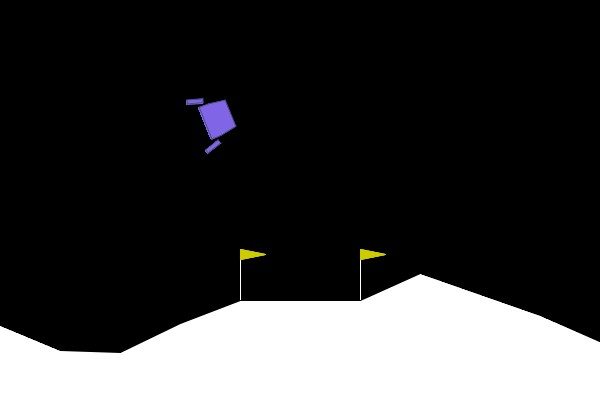lander: (184, 85, 243, 156)
